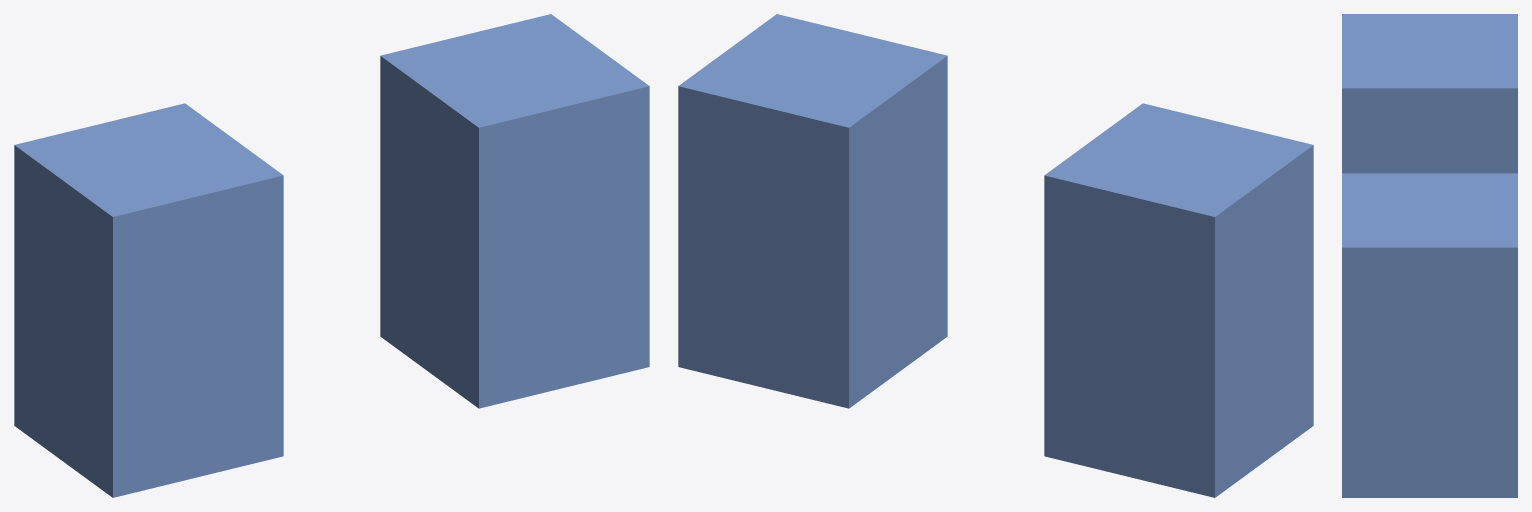
File: mage_gloves.glb
3 views of the same model, side by side, from view 1: azimuth 30°, elevation 25°; view 2: azimuth 150°, elevation 25°; view 3: azimuth 270°, elevation 25° (orthographic). The views are drawn at different scales.
Parts seen in each view (by area): view 1: mage_gloves; view 2: mage_gloves; view 3: mage_gloves.
Part boxes in pixels (x1,y1,x2,y2): mage_gloves: (14, 14, 649, 497); mage_gloves: (678, 14, 1313, 497); mage_gloves: (1342, 14, 1517, 497).
Bounding box in the file's own units: 0.44 × 0.22 × 0.14.
